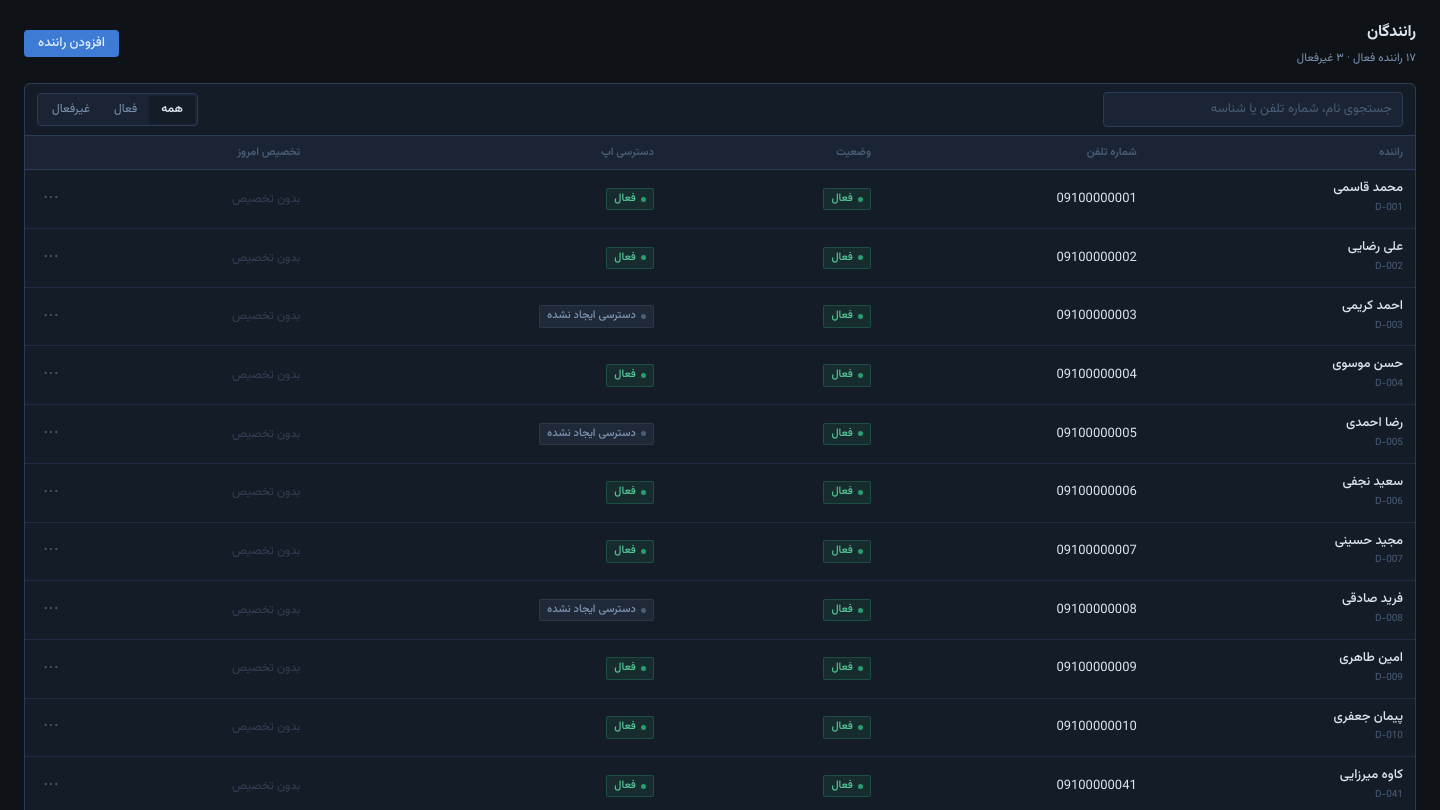
Scenario: A06 Drivers — detail drawer › row menu click does not open the row drawer accidentally
Click the button with class "drv-menu-trigger" in the row of "علی رضایی" at (51, 258), box [37,246,65,270]
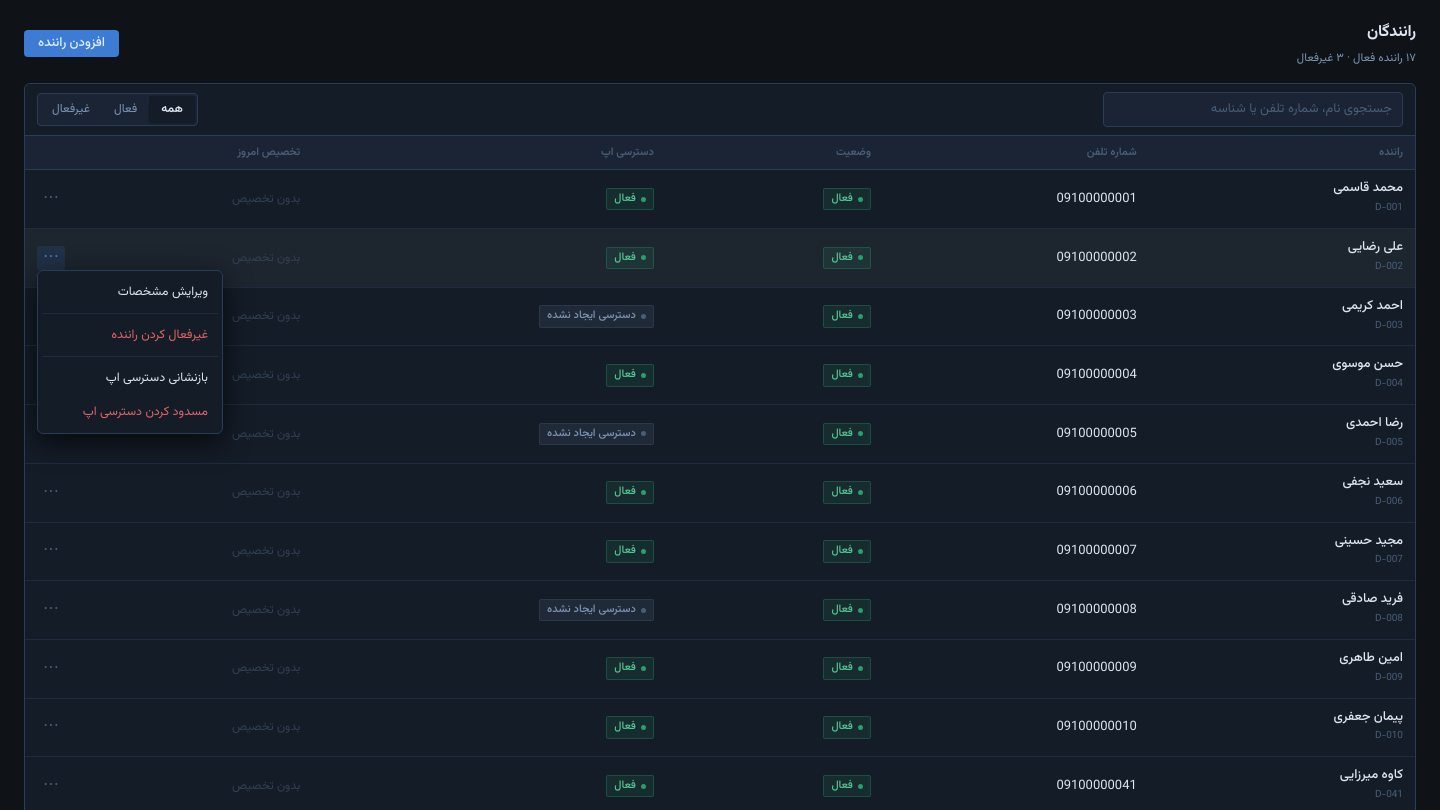
Now the menu with class "drv-menu" is shown, box [37,270,223,434]
